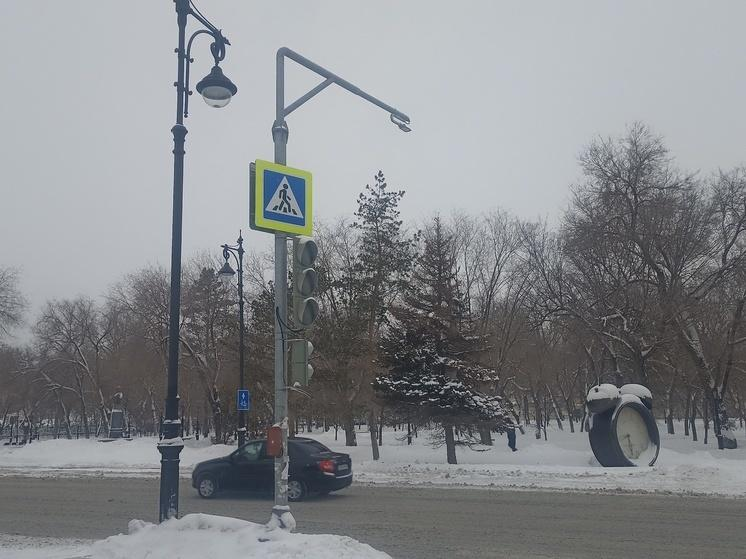off traffic light: (294, 237, 319, 328), (291, 339, 314, 386)
road_sign: (256, 159, 312, 235)
